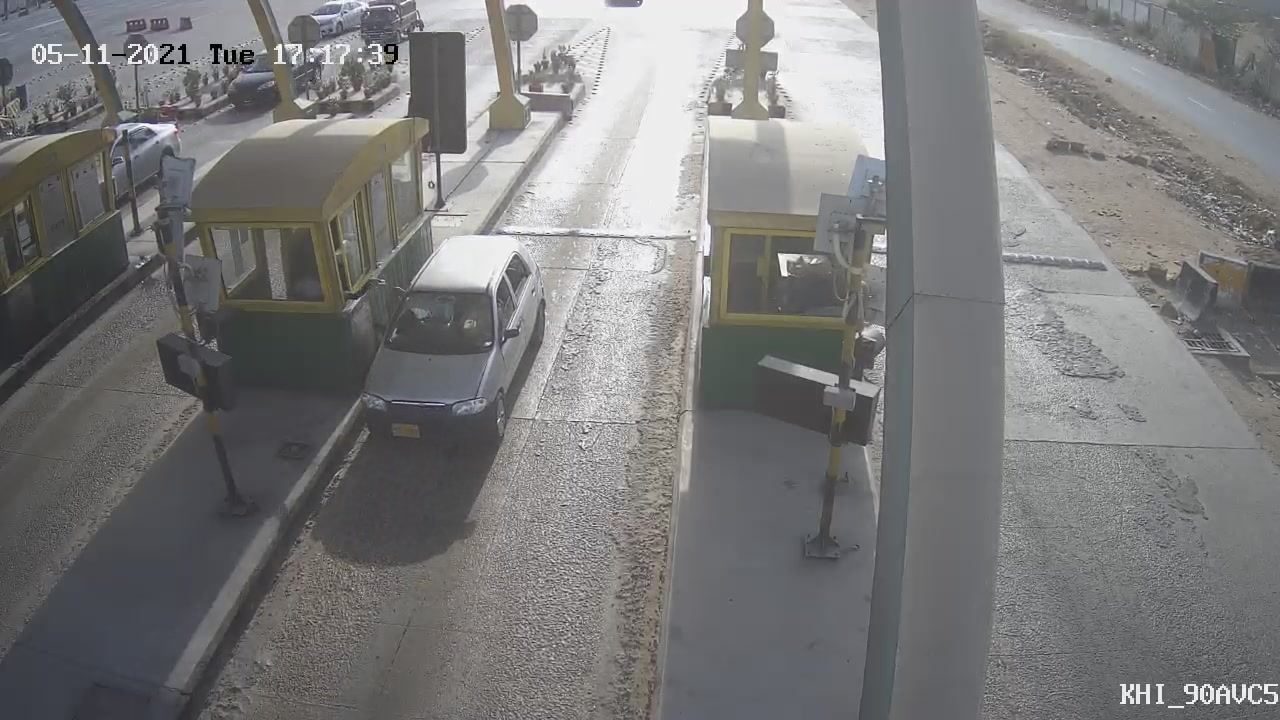F1: (318, 216, 574, 475)
